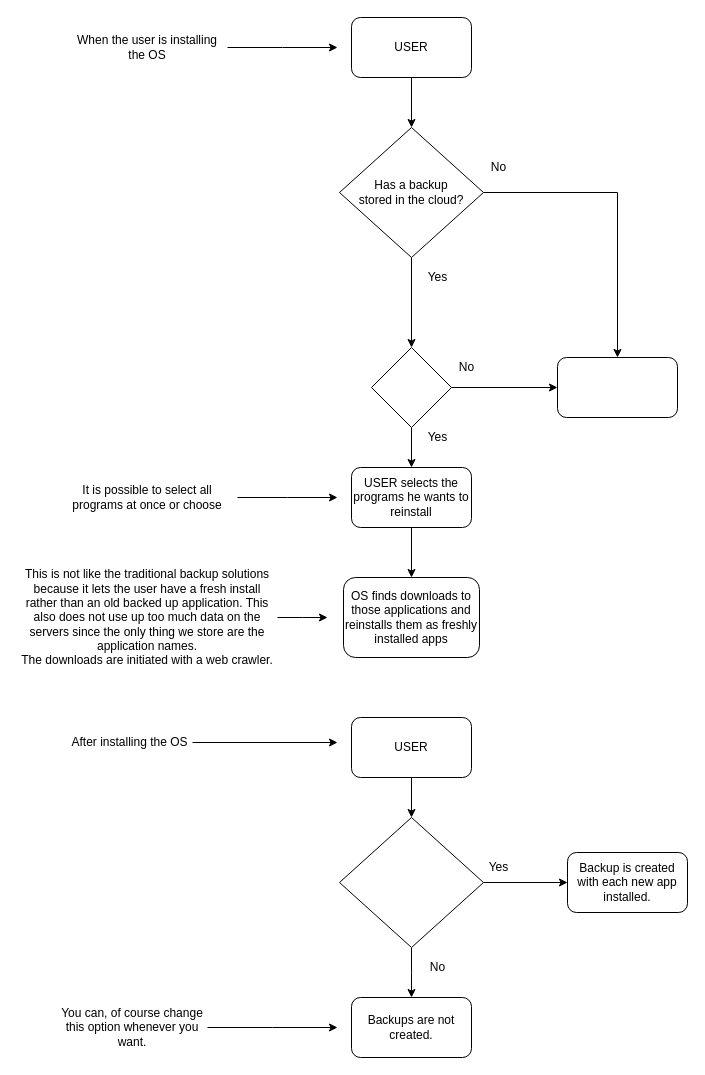
The diagram is 705 pixels wide and 1075 high, and some of its shapes have lost their labels. Here are the shapes that lost their labels. From the top down, the centre of each, then its label:
At pixel 411 387: "Wants to restore?".
At pixel 617 387: "OS installs as usual".
At pixel 411 882: "Chose to backup programs installed?".
